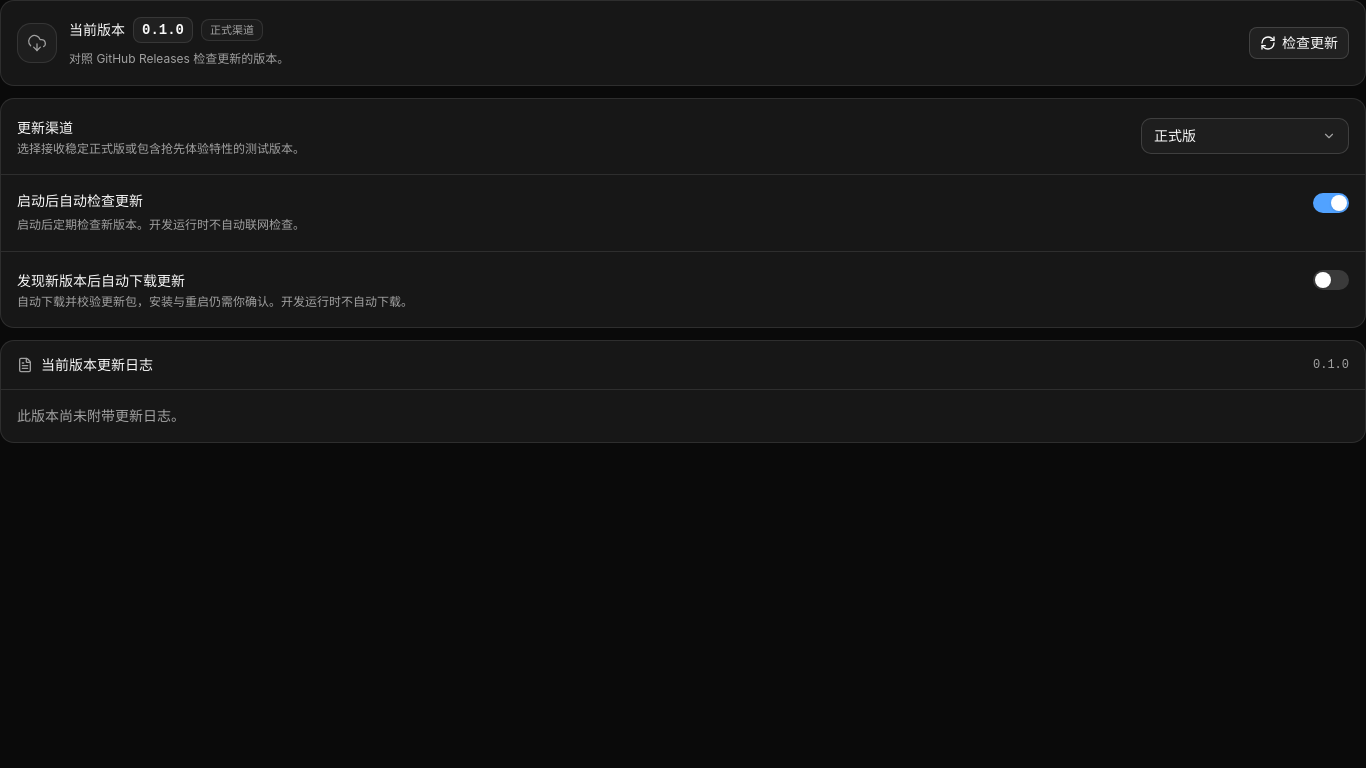
Scenario: UpdateCard › 保存 Beta 渠道后清除旧渠道结果，不自动联网检查
The image size is (1366, 768).
Click the button "检查更新" at [1299, 43], box [1249,27,1349,59]
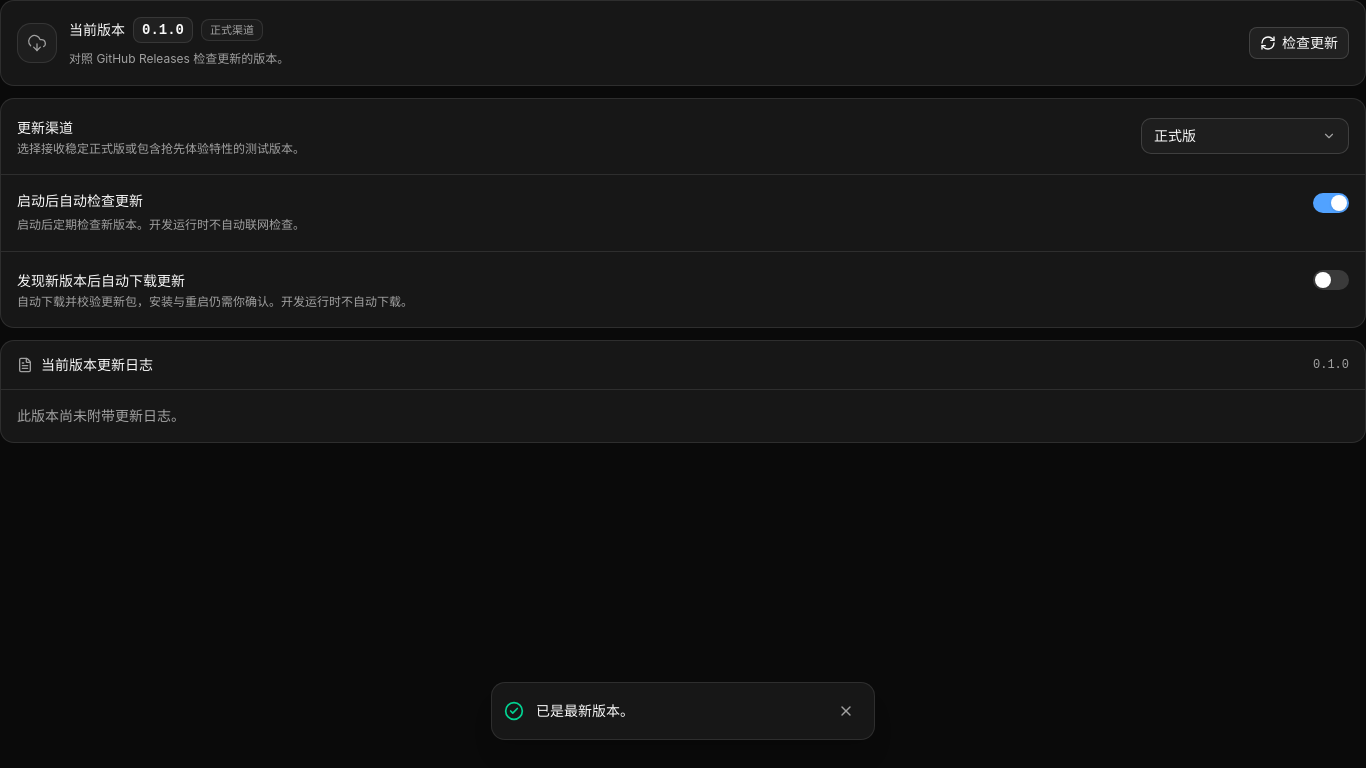
Result: the text "已是最新版本。" is shown at [536,702,634,719]
Click the dropdown named "更新渠道" at [1245, 136], box [1141,118,1349,154]
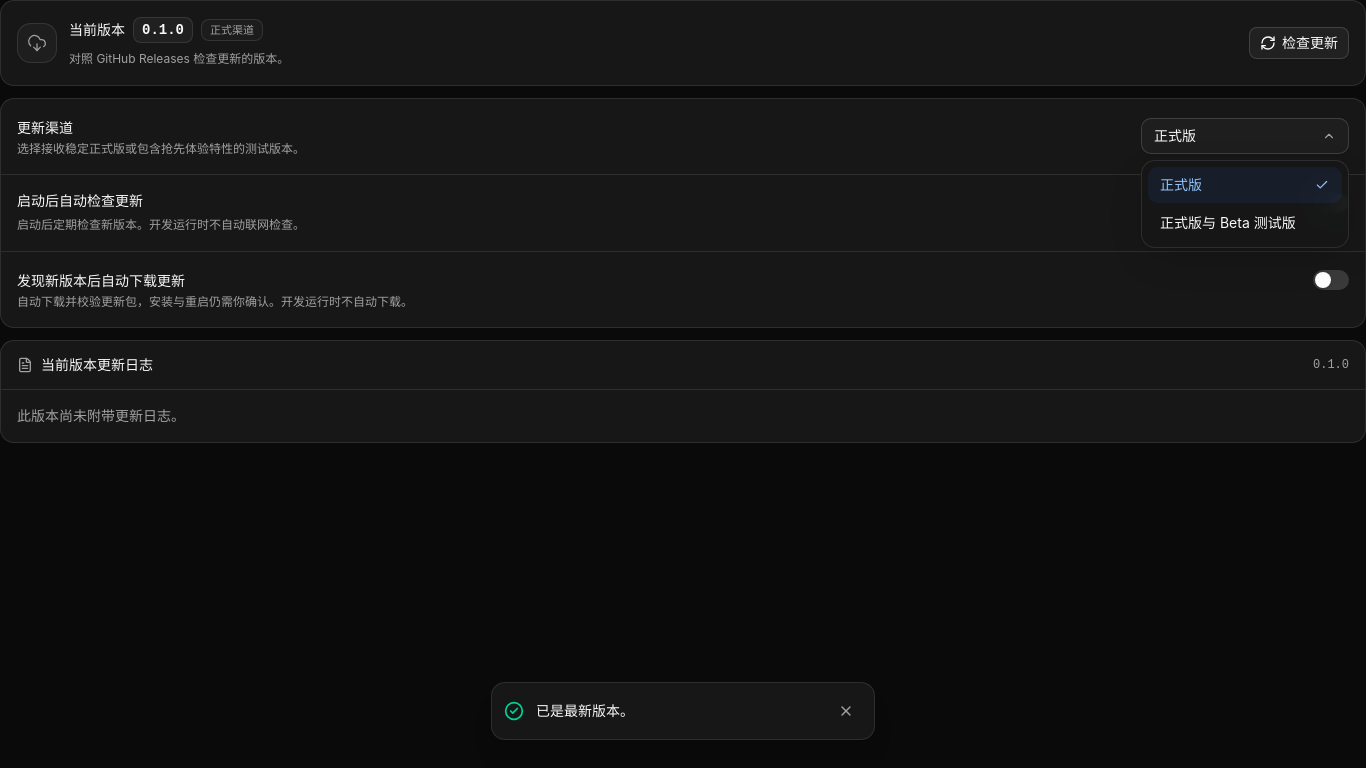
Click the option "正式版与 Beta 测试版" at [1228, 222], box [1160,214,1296,231]
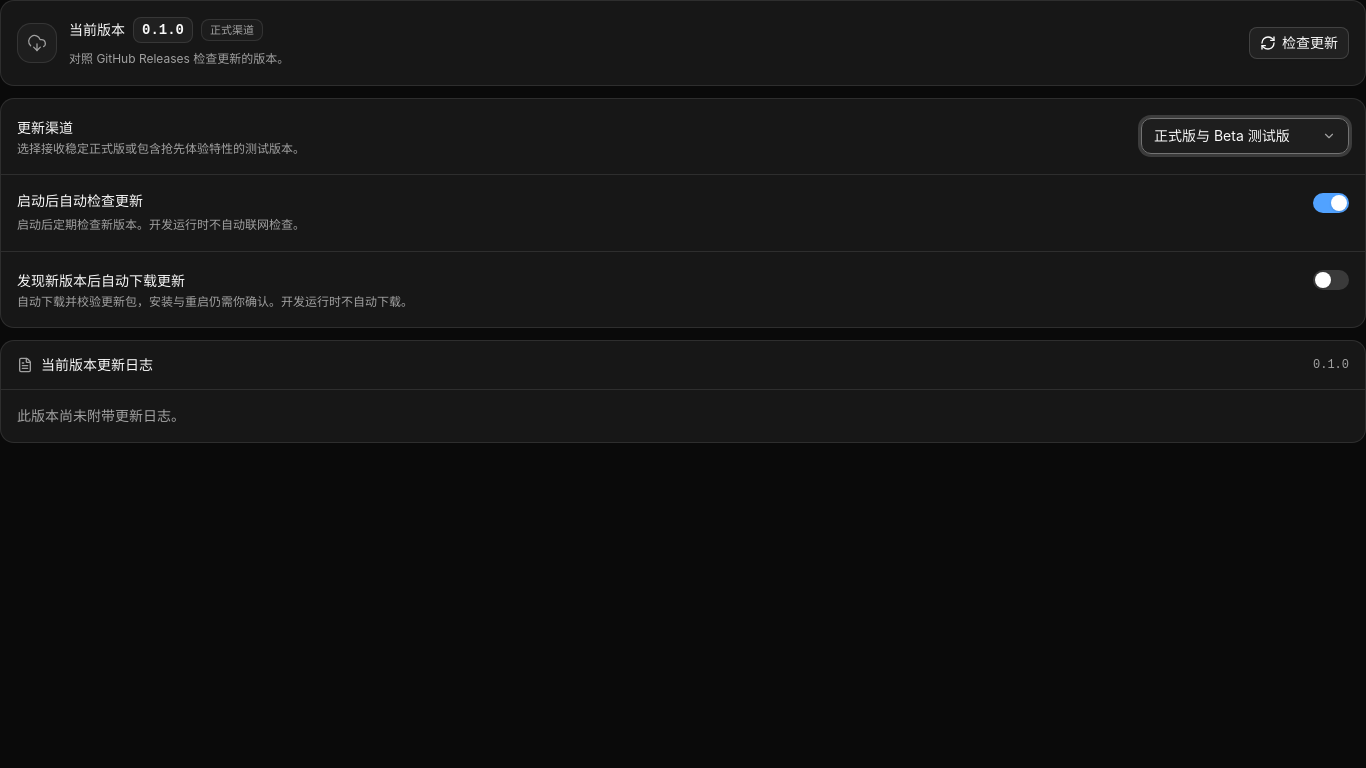
Result: the text "已是最新版本。" is gone
